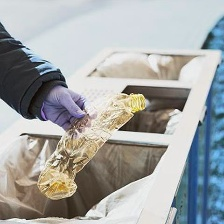bottle: (34, 87, 151, 201)
